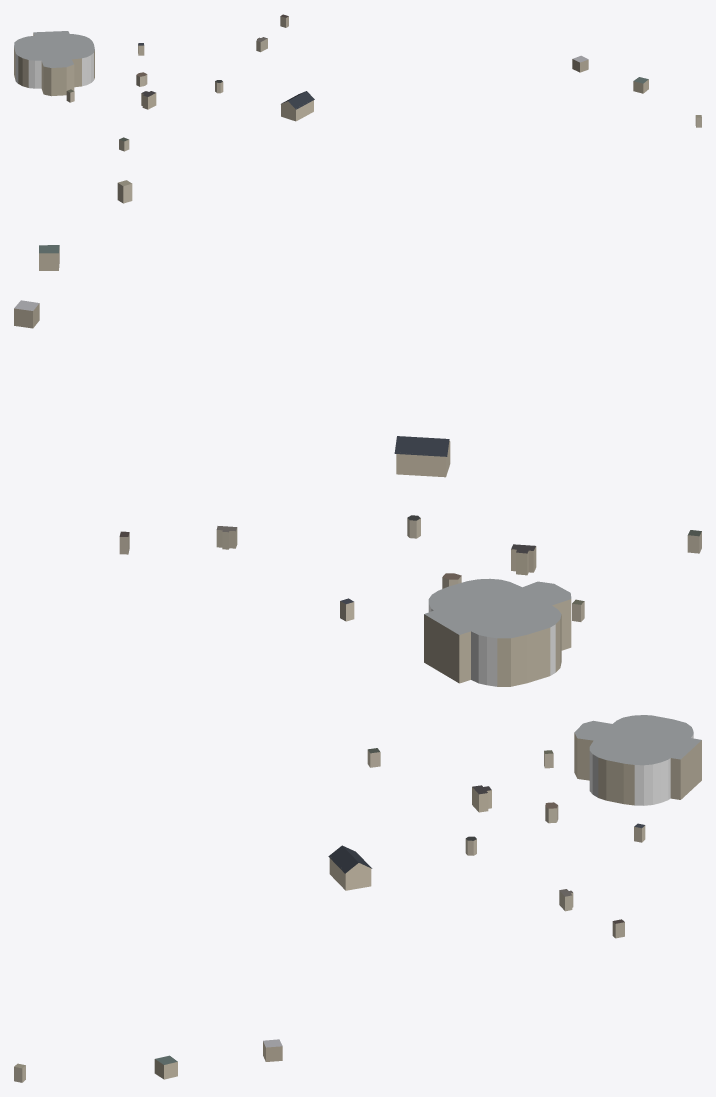
3 renders of one model, top to bottom at view 1: azimuth 30°, elevation 25°; view 2: azimuth 150°, elevation 25°; view 3: azimuth 270°, elevation 25°, orthographic. The views are drawn at different scales.
Parts seen in each view (by area): view 1: tuile; view 2: tuile; view 3: tuile.
Boxes of the visible parts, x1,y1,x2,y2 form: tuile: (14,14,701,151); tuile: (14,180,701,686); tuile: (14,715,701,1082).
Bounding box in the file's own units: 236 × 13.73 × 208.
